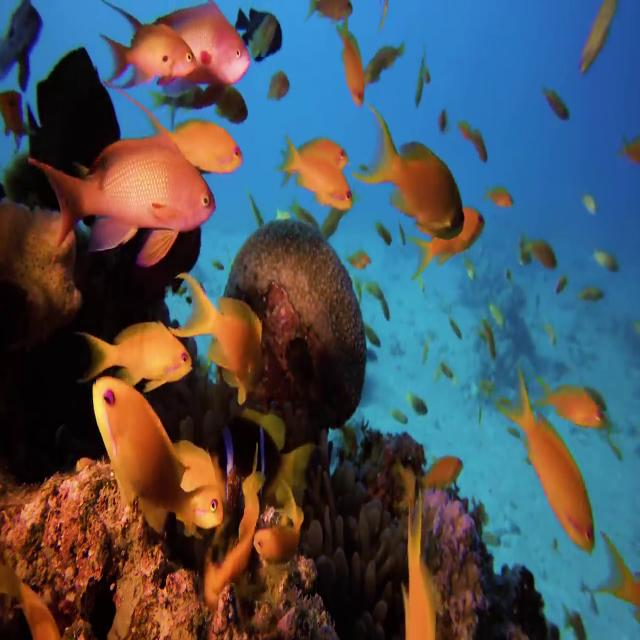fish: (26, 77, 226, 275), (495, 351, 601, 560), (82, 360, 203, 527), (358, 105, 468, 241), (68, 304, 205, 397), (167, 266, 270, 389), (92, 0, 201, 106), (402, 186, 487, 296), (149, 0, 246, 91), (393, 474, 446, 640), (536, 344, 609, 438), (285, 141, 359, 222), (333, 0, 372, 114), (228, 0, 289, 63), (292, 120, 350, 173)
